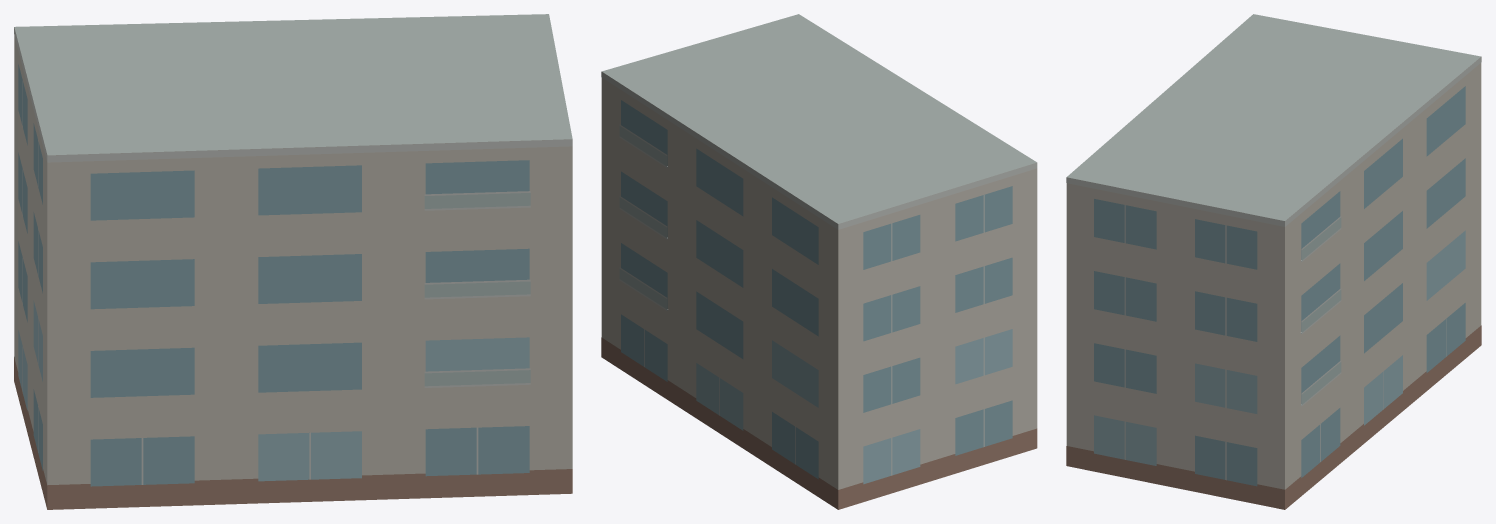
Rendered from survey-upis-32888302.glb.
3 views of the same model, side by side, from view 1: azimuth 30°, elevation 25°; view 2: azimuth 150°, elevation 25°; view 3: azimuth 270°, elevation 25° (orthographic). The views are drawn at different scales.
Visible parts, largest first — view 1: survey-upis-32888302.tmp; view 2: survey-upis-32888302.tmp; view 3: survey-upis-32888302.tmp.
Boxes of the visible parts, <box> form: survey-upis-32888302.tmp: <box>14,14,572,509</box>; survey-upis-32888302.tmp: <box>601,14,1037,509</box>; survey-upis-32888302.tmp: <box>1066,14,1481,509</box>.
Bounding box in the file's own units: 18.47 × 12 × 15.64.
